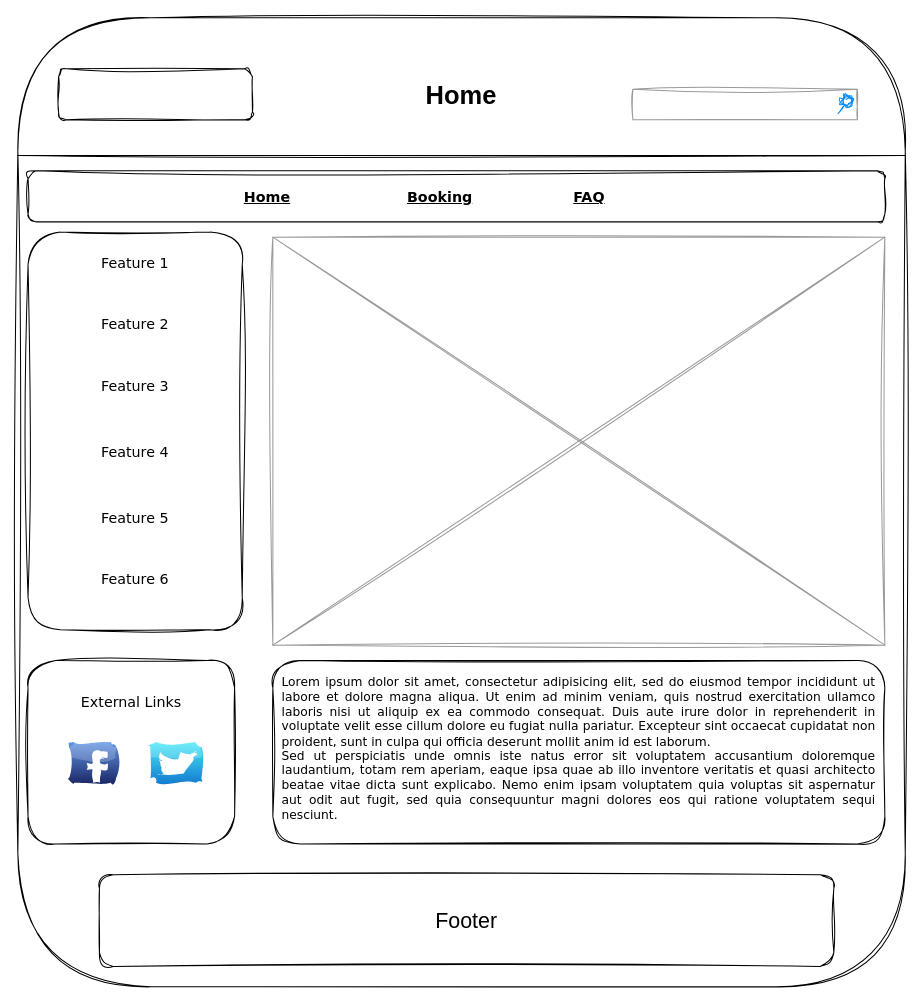
This 923x1005 diagram has some shape labels left out. Here are the shapes that lost their labels. From the top down, the centre of each, then its label:
At [155,94]: "LOGO".
At [744,104]: "Search".
